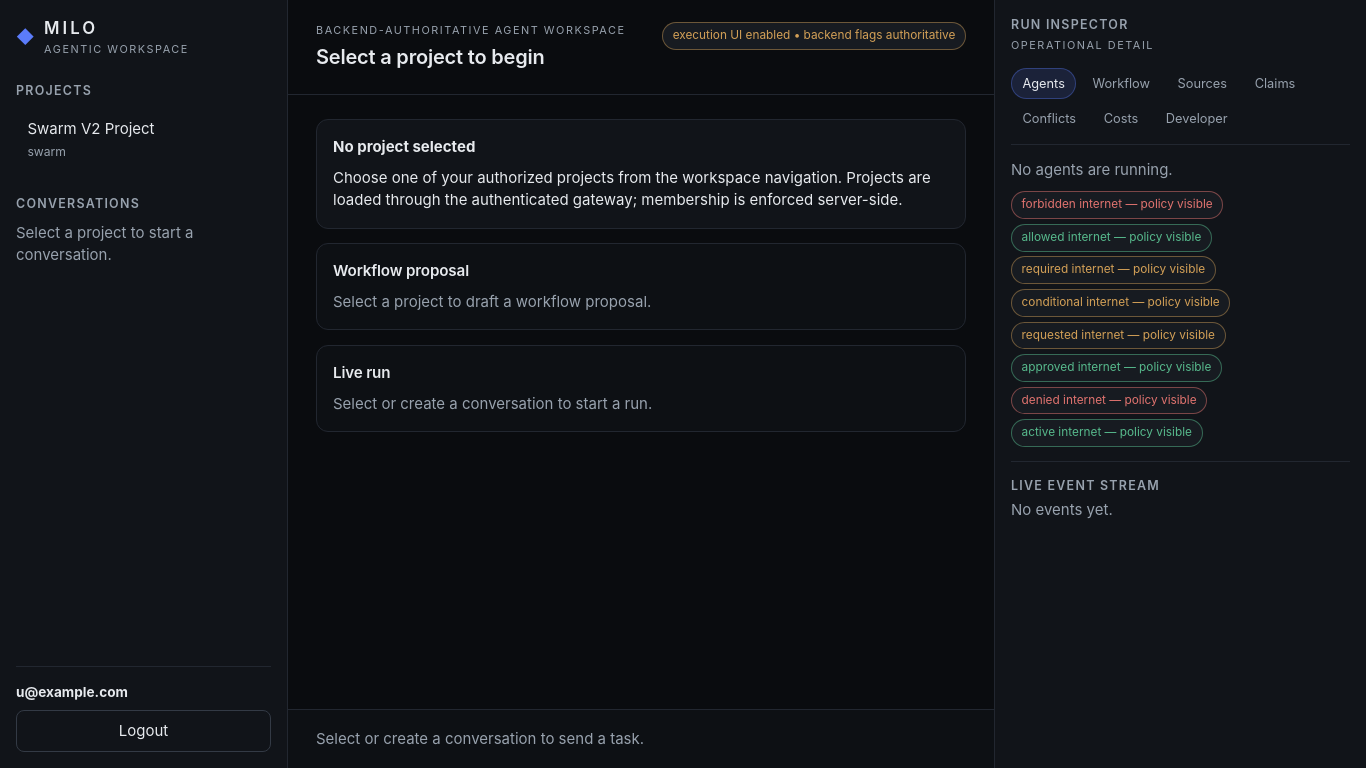
Scenario: result-surface routing › 1. a Swarm V2 project gets the typed Final Result surface and NOT the raw output panel
Click the text "Swarm V2 Project" at (91, 128), box [27, 119, 154, 138]
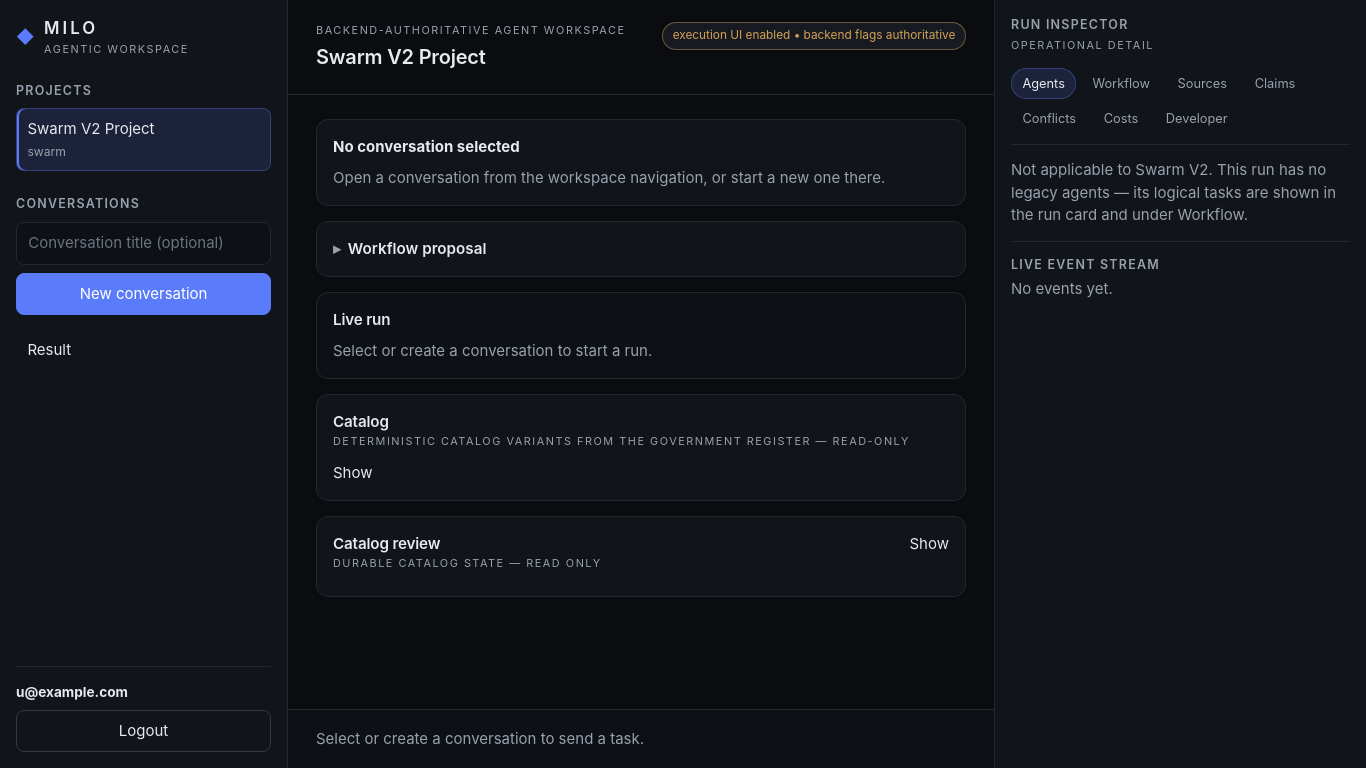
Click the button "Result" at (144, 350), box [16, 329, 271, 371]
(page scrolled)
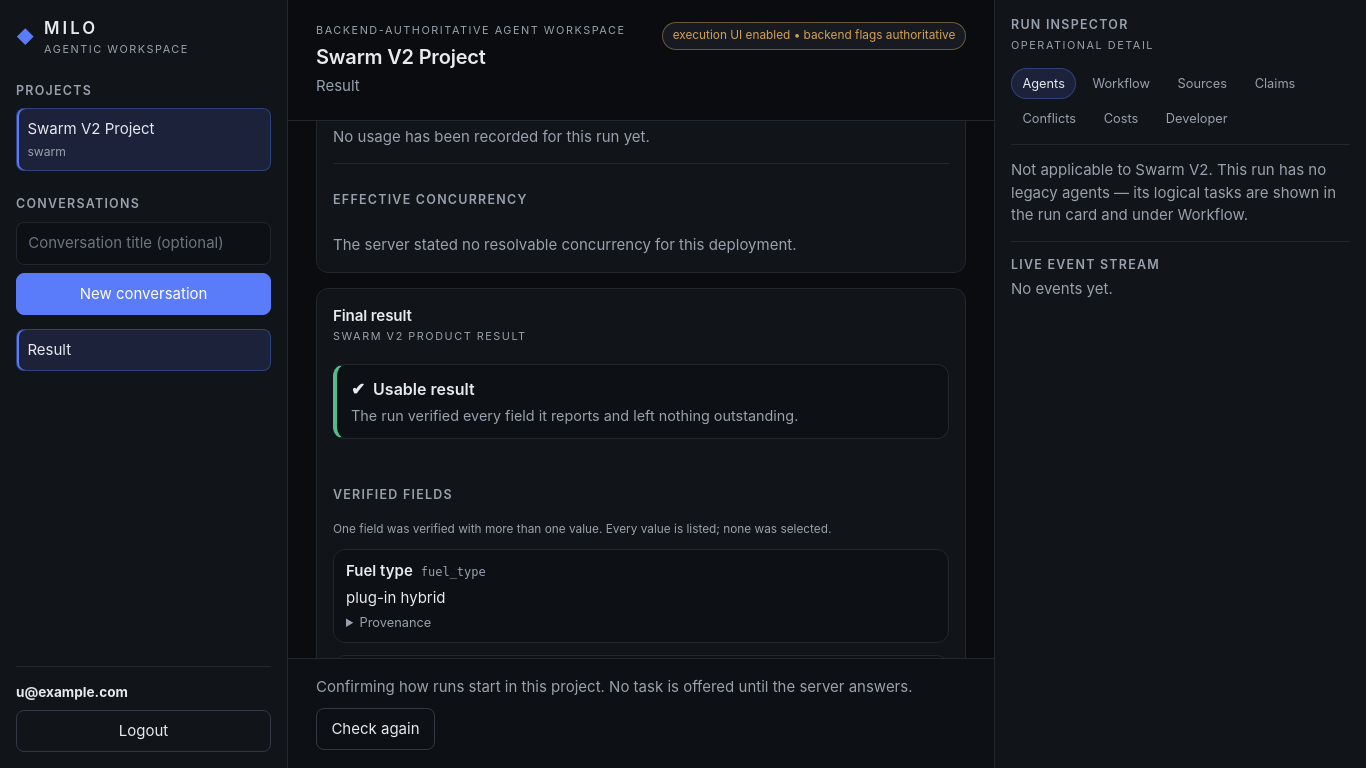
Expected: the heading "Final result" is shown, [333, 306, 412, 325]
Expected: the text "Usable result" is shown, [373, 377, 475, 401]
